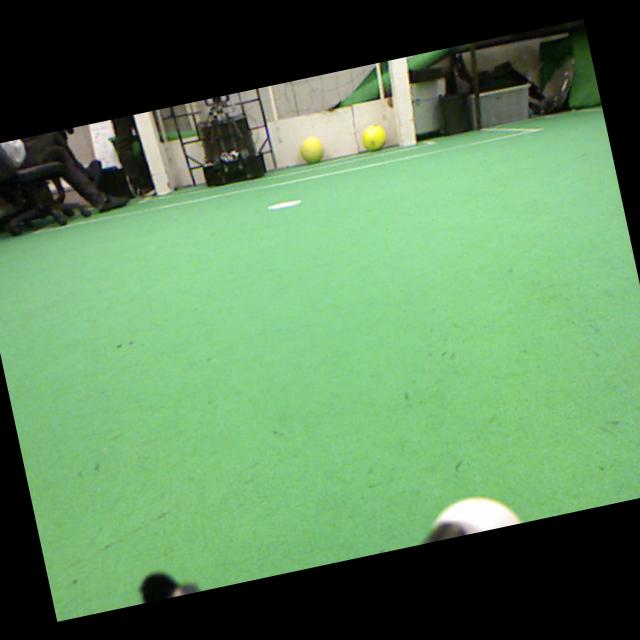ball: (361, 124, 386, 150), (299, 138, 324, 163)
goal: (132, 111, 172, 195), (391, 56, 416, 147)
robot: (199, 94, 266, 186)
